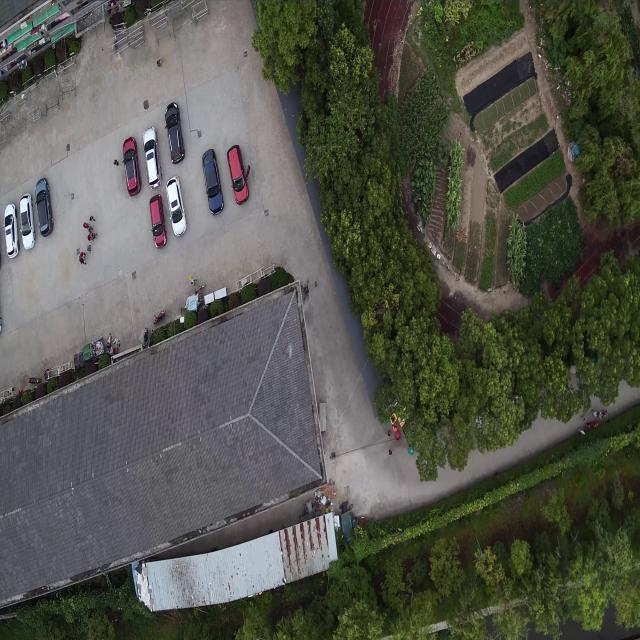UAV: (283, 340, 297, 362)
